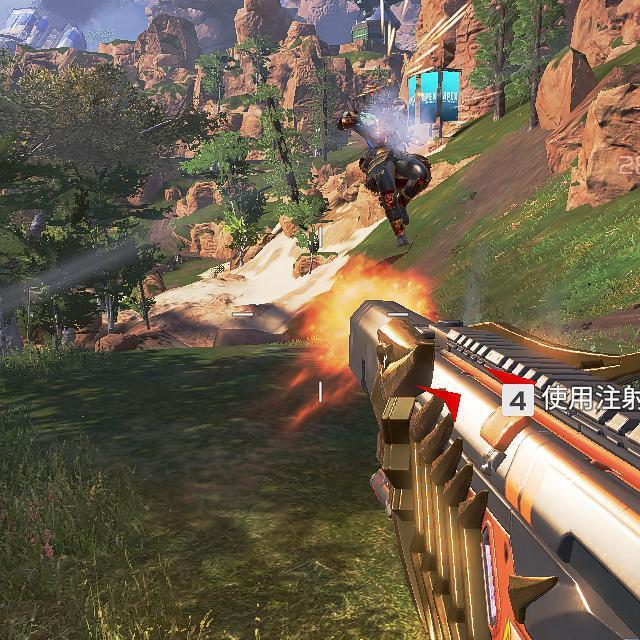avatar: (335, 80, 435, 251)
